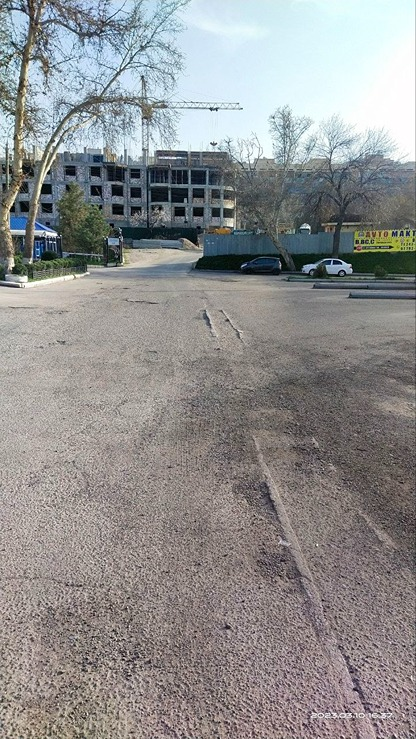car: (307, 255, 354, 283), (239, 256, 286, 279)
tree: (0, 0, 177, 260), (224, 107, 309, 237), (314, 120, 392, 242)
